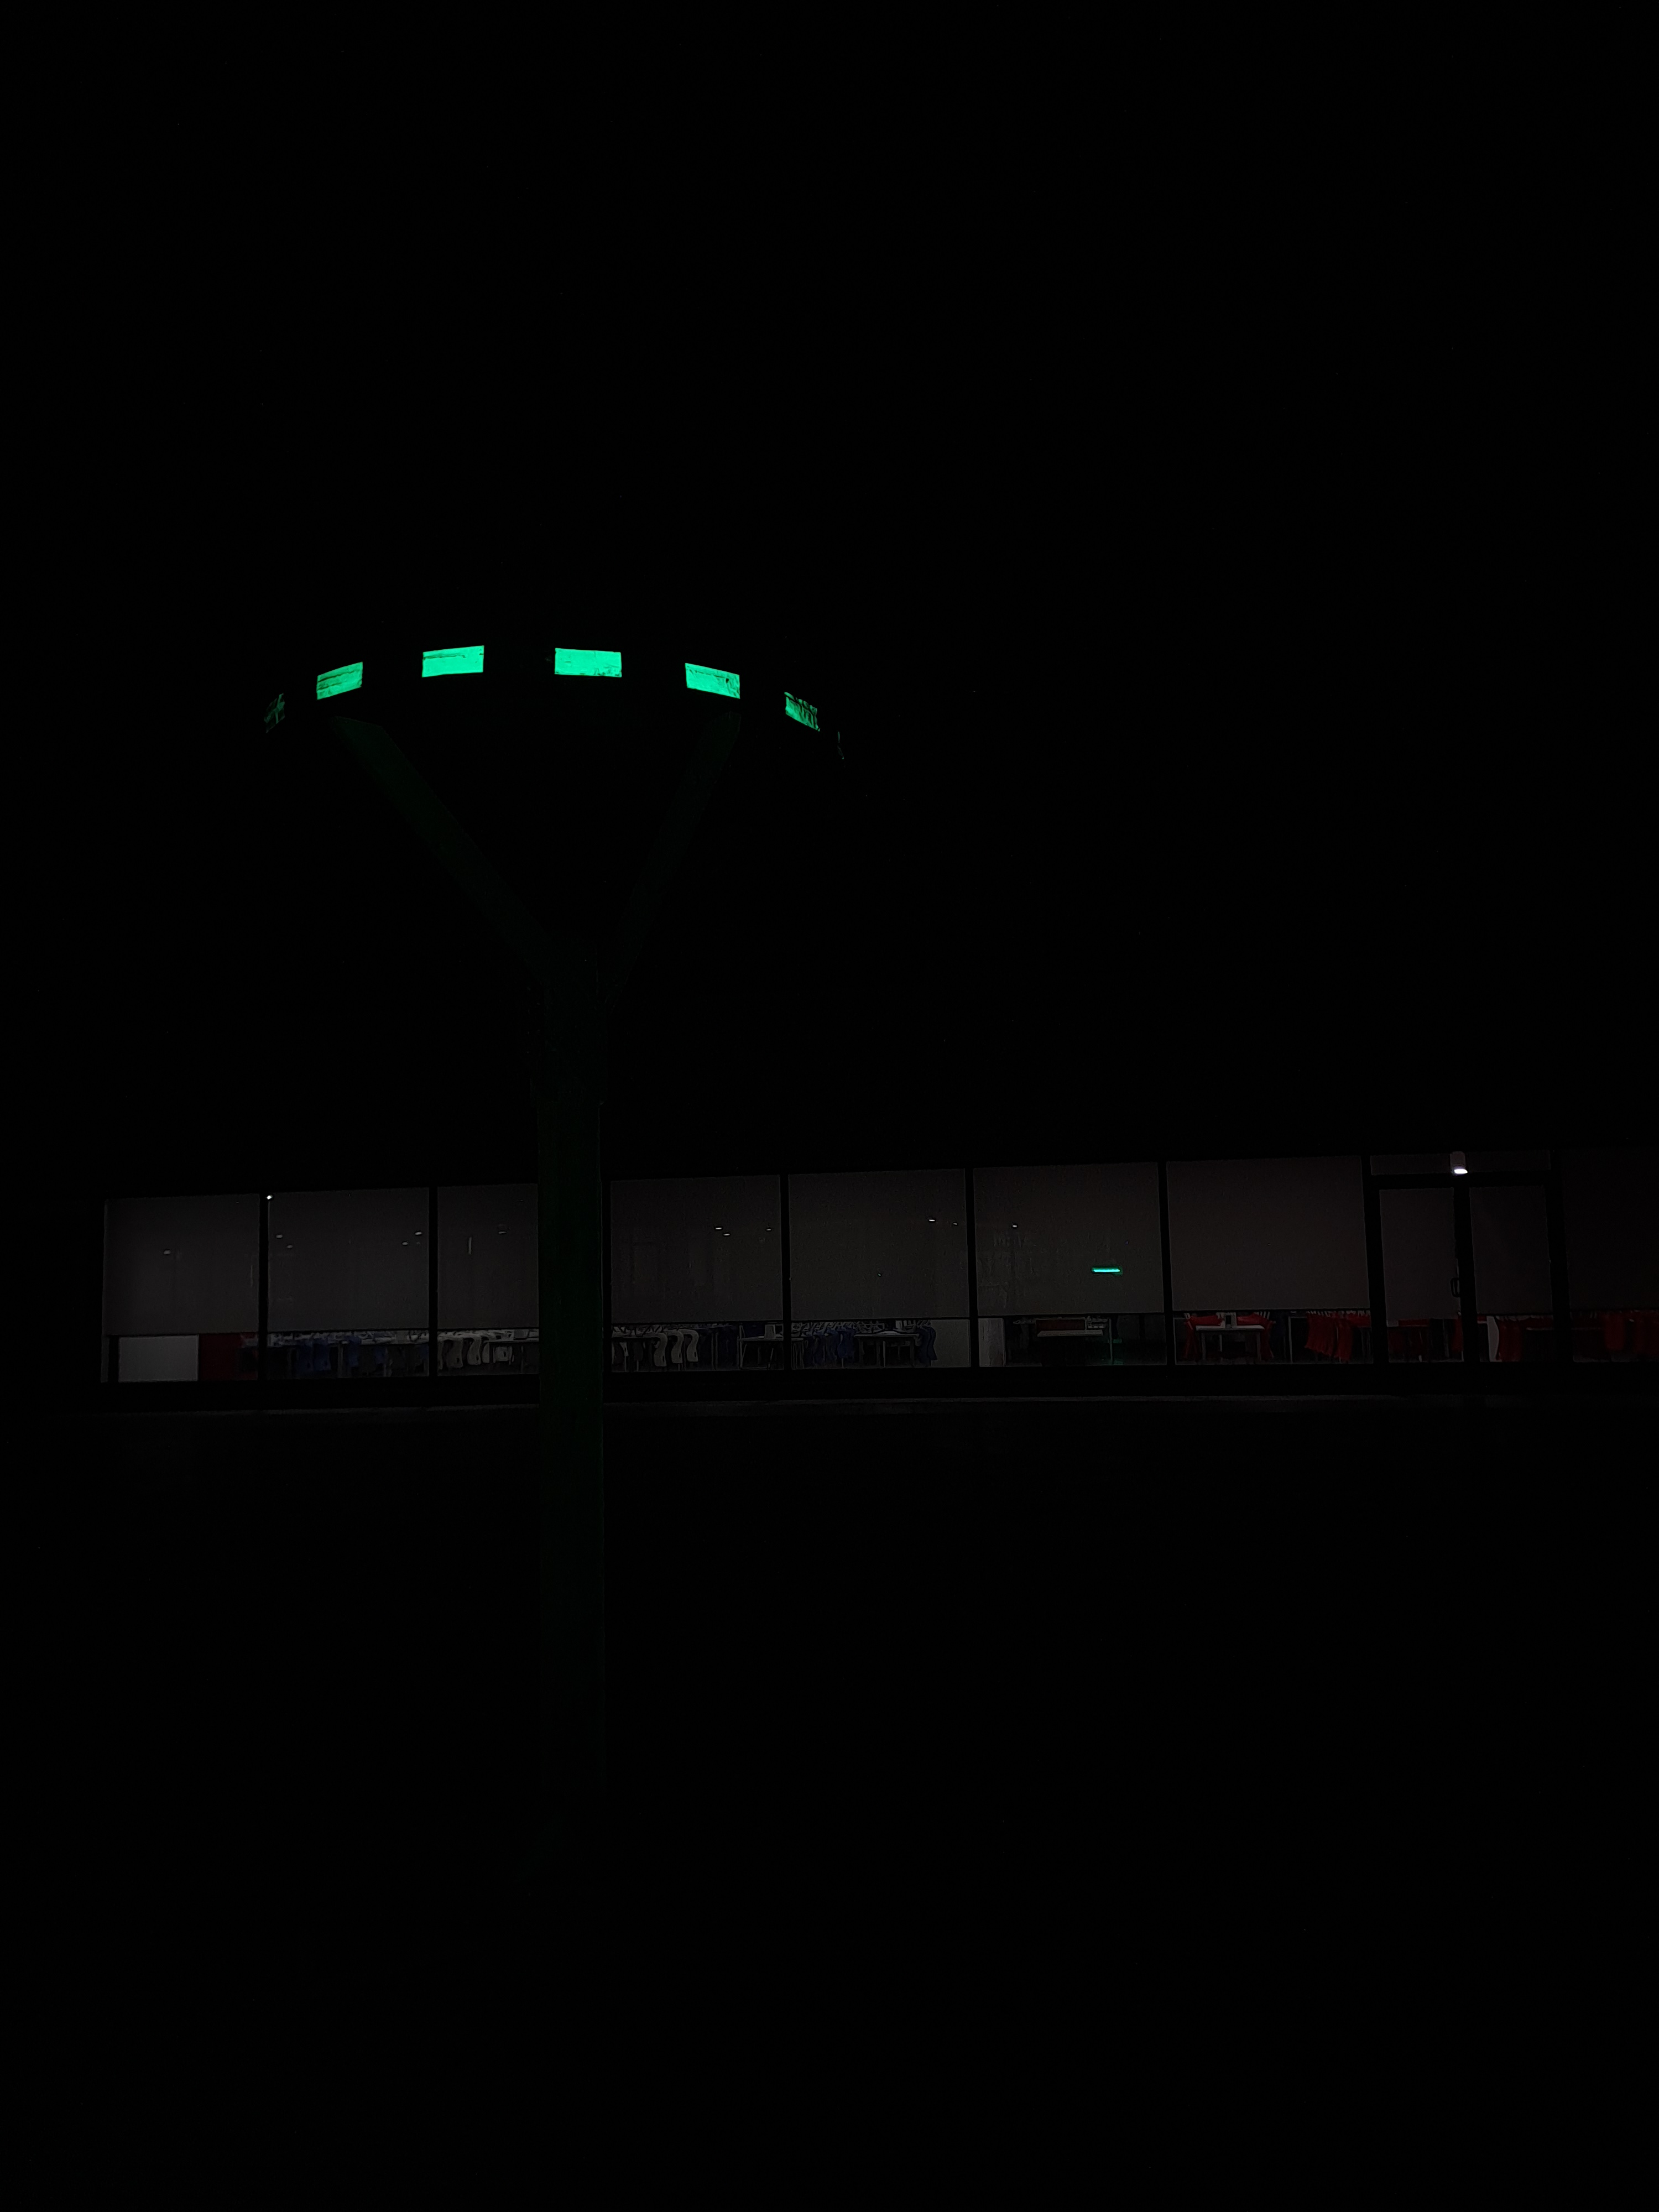hoop: (298, 627, 826, 738)
